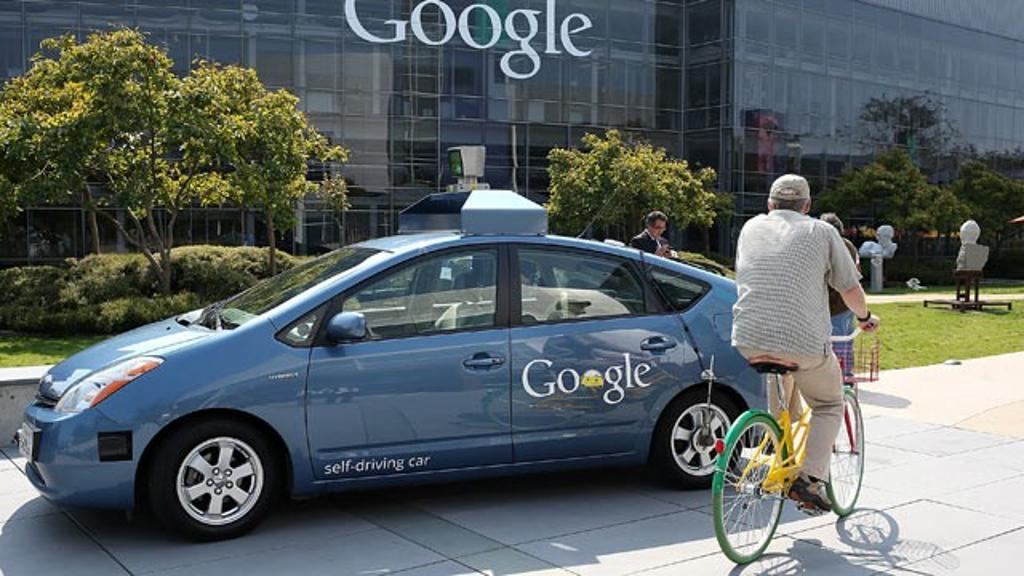face: (652, 220, 667, 237)
